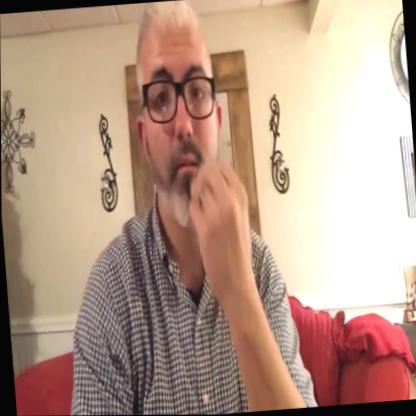Food: (124, 0, 272, 343)
